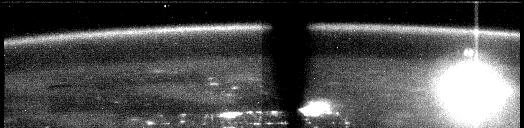positive: (461, 47, 477, 59)
